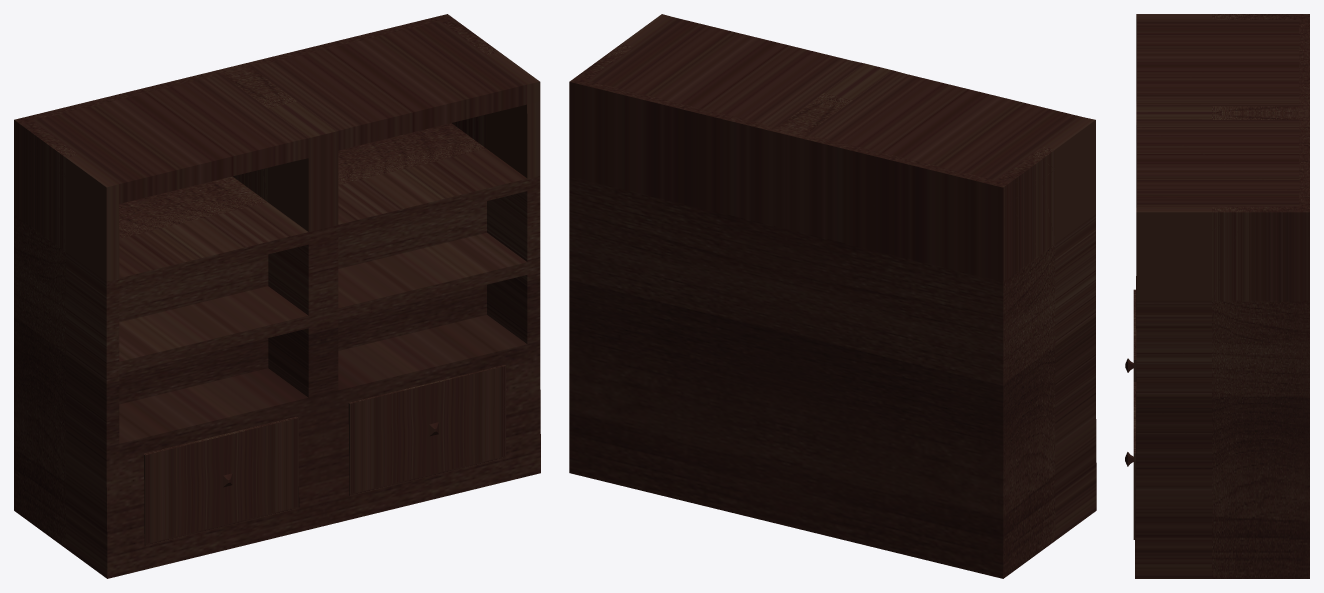
File: BookCase1.fbx
The picture shows the model from 3 angles, left to right: view 1: azimuth 30°, elevation 25°; view 2: azimuth 150°, elevation 25°; view 3: azimuth 270°, elevation 25°; orthographic projection. The views are drawn at different scales.
Visible parts, largest first — view 1: BookCase, Cube.001, Cube.002; view 2: BookCase; view 3: BookCase, Cube.001, Cube.002.
Part boxes in pixels (x1=…): BookCase: x1=14, y1=14, x2=540, y2=578; Cube.001: x1=348, y1=365, x2=505, y2=495; Cube.002: x1=144, y1=416, x2=298, y2=545; BookCase: x1=569, y1=14, x2=1096, y2=578; BookCase: x1=1135, y1=14, x2=1309, y2=578; Cube.001: x1=1125, y1=382, x2=1136, y2=539; Cube.002: x1=1125, y1=289, x2=1136, y2=381.
Bounding box in the file's own units: 491 × 423 × 193.
Materials: 1 (1 with a texture image).
